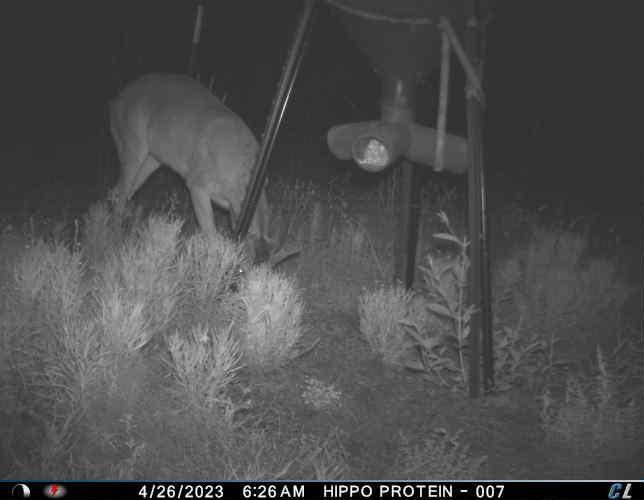Deer: (101, 64, 304, 279)
